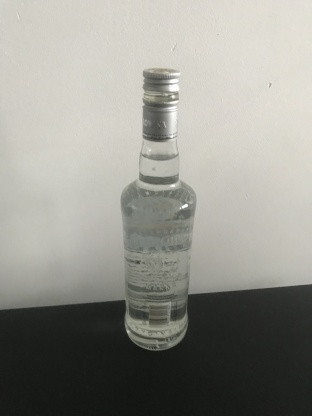nakretka: (140, 67, 181, 142)
